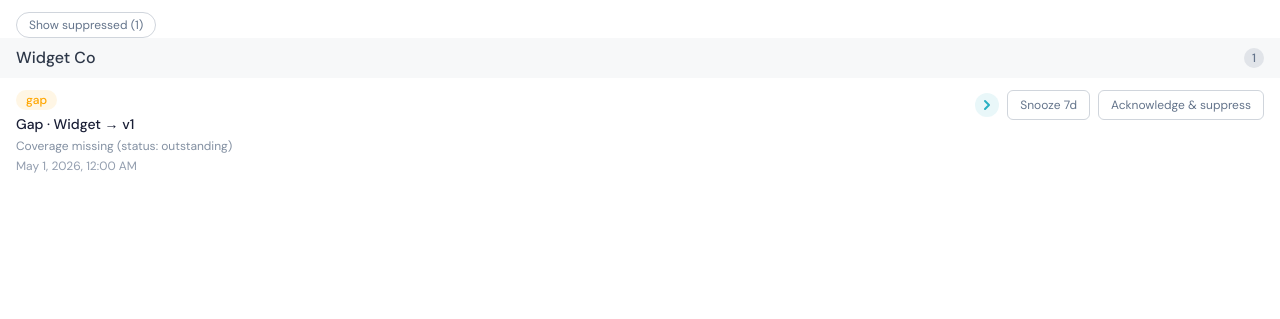
Test: WorkingListTable › with showSuppressed toggled on, renders dismissed items with "suppressed" label
Click the button "Show suppressed (1)": x=86, y=25 left=16, top=12, right=156, bottom=38
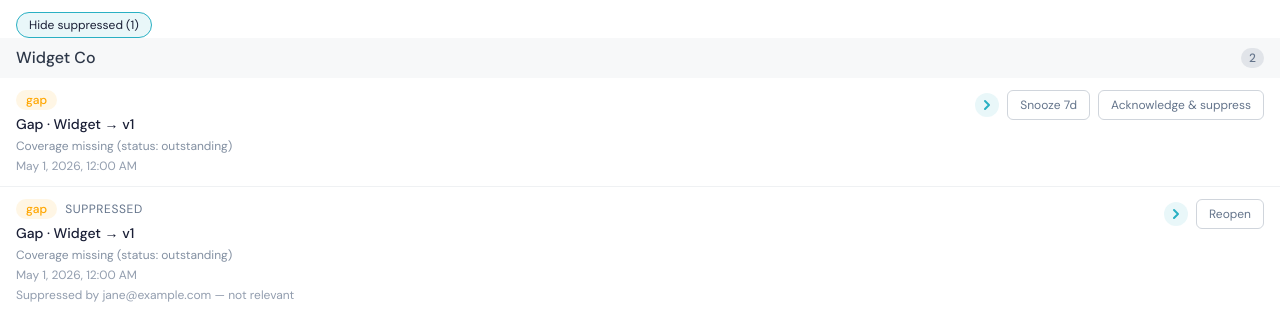
expect the text "suppressed" is shown once: met, box left=65, top=201, right=143, bottom=217
expect the button "Hide suppressed (1)" is shown: met, box left=16, top=12, right=152, bottom=38
